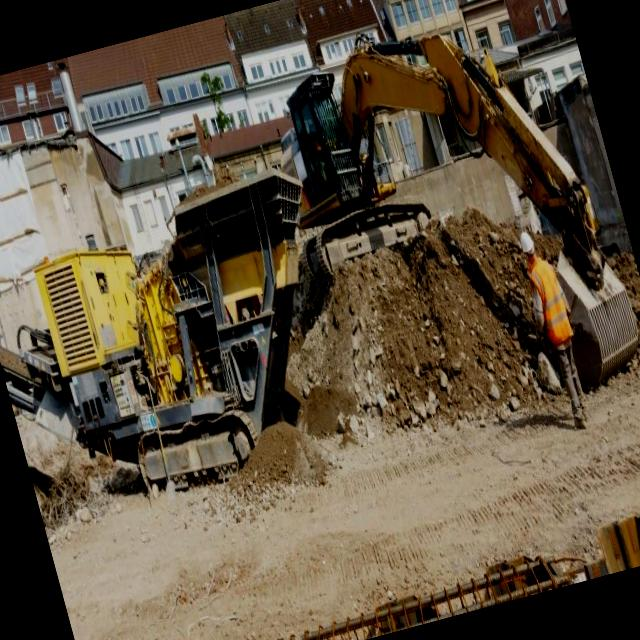helmet: (515, 222, 542, 266)
vest: (527, 253, 574, 346)
